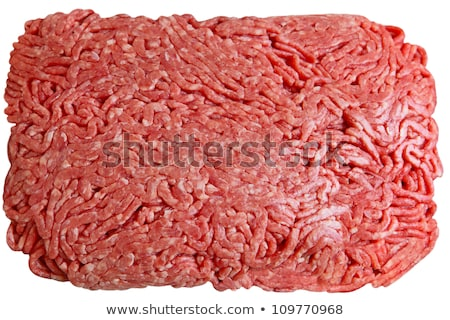ground_beef: (24, 22, 412, 282)
